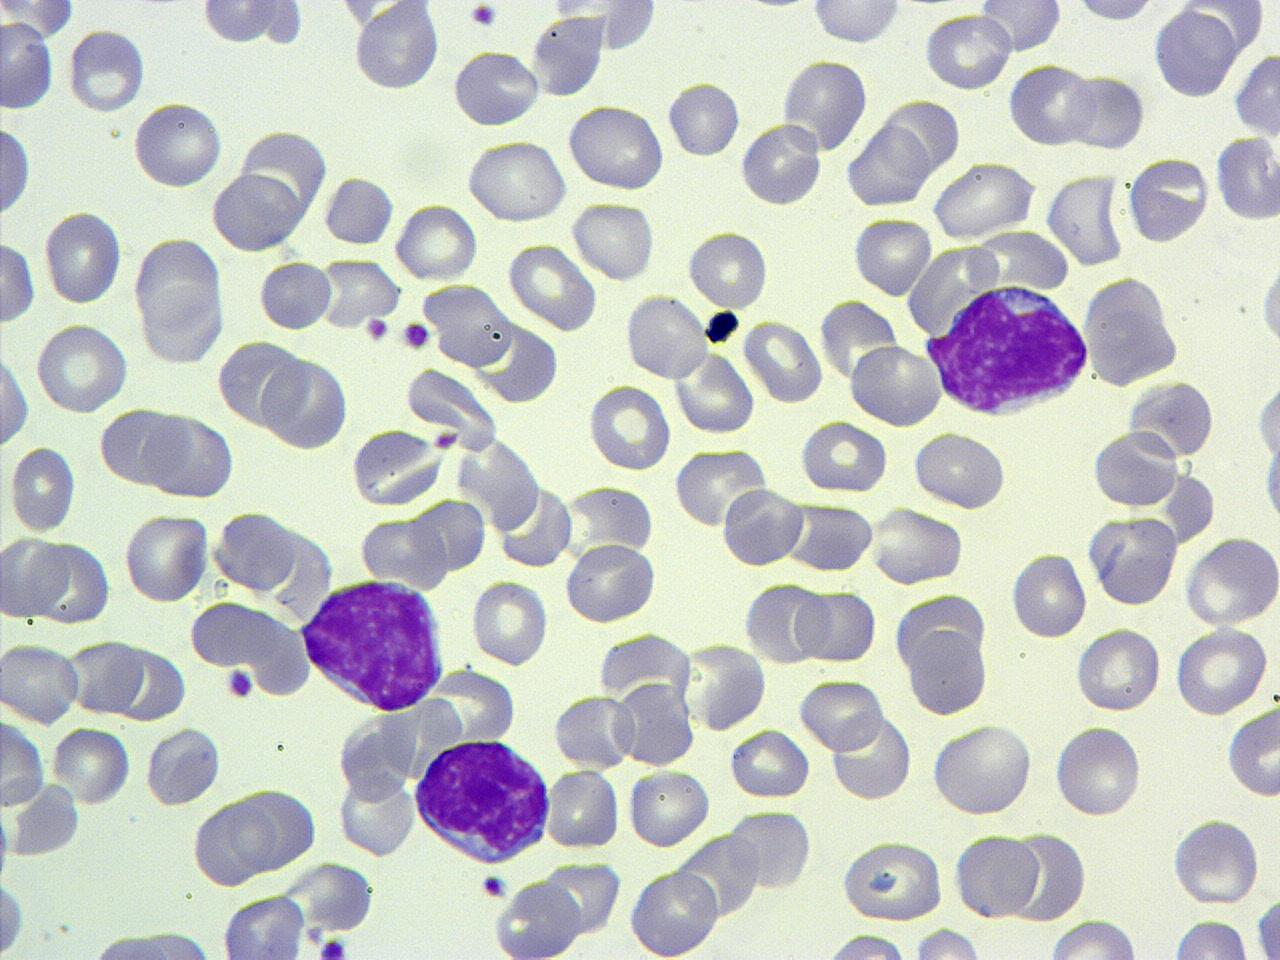Platelets: (0, 878, 29, 960), (1253, 892, 1280, 960), (704, 308, 740, 348), (402, 319, 434, 351), (225, 666, 255, 700), (468, 3, 500, 30), (481, 872, 510, 900), (363, 316, 390, 342), (319, 937, 349, 960)
RBC: (130, 233, 228, 362), (1079, 274, 1185, 388), (928, 722, 1036, 820), (840, 836, 948, 924), (464, 136, 572, 224), (565, 101, 667, 193), (33, 320, 132, 414), (1182, 534, 1280, 628), (1173, 625, 1271, 718), (1168, 814, 1266, 906), (780, 55, 869, 155), (1086, 512, 1178, 608), (130, 99, 226, 191), (1052, 724, 1144, 820), (930, 159, 1039, 240), (626, 866, 721, 958), (351, 1, 442, 94), (950, 829, 1043, 920), (260, 355, 349, 450), (848, 341, 944, 429), (216, 335, 306, 428), (910, 428, 1010, 511), (146, 410, 238, 500), (506, 240, 596, 332), (404, 364, 501, 449), (682, 638, 768, 733), (42, 208, 123, 308), (124, 510, 210, 604), (1153, 5, 1237, 100), (1008, 61, 1098, 149), (585, 382, 673, 472), (904, 626, 990, 718), (868, 506, 964, 588), (562, 542, 658, 624), (336, 708, 416, 806), (1009, 828, 1089, 926), (1075, 625, 1163, 714), (672, 444, 763, 530), (419, 284, 512, 368), (210, 170, 304, 253), (1127, 376, 1215, 464), (230, 783, 318, 871), (624, 292, 710, 381), (30, 535, 112, 628), (491, 878, 585, 959), (1008, 547, 1088, 642), (212, 506, 298, 594), (736, 121, 822, 208), (744, 578, 828, 667), (1126, 155, 1210, 244), (923, 10, 1013, 93), (450, 47, 542, 128), (348, 429, 442, 508), (846, 121, 930, 209), (612, 682, 696, 770), (672, 347, 756, 435), (742, 316, 826, 404), (570, 199, 658, 283), (624, 765, 712, 849), (1089, 427, 1179, 509), (469, 576, 550, 667), (719, 484, 805, 568), (65, 26, 147, 114), (830, 712, 913, 798), (0, 639, 80, 728), (358, 512, 448, 591), (98, 404, 183, 487), (787, 498, 877, 576), (528, 10, 606, 100), (850, 213, 932, 298), (394, 200, 480, 281), (797, 418, 888, 494), (337, 774, 419, 858), (192, 799, 269, 888), (51, 724, 132, 808), (798, 675, 886, 752), (550, 692, 636, 770), (63, 636, 146, 716), (544, 766, 621, 852), (686, 229, 769, 308), (144, 724, 222, 808), (728, 726, 812, 802), (8, 442, 77, 534), (1069, 71, 1147, 152), (796, 586, 877, 664), (666, 77, 741, 160), (0, 534, 68, 622), (320, 256, 403, 328), (218, 892, 308, 958), (1215, 133, 1279, 223), (256, 258, 334, 331), (248, 615, 314, 699), (189, 598, 264, 670), (324, 173, 397, 246), (1224, 704, 1280, 798), (0, 19, 56, 112), (976, 0, 1063, 54), (808, 0, 902, 46), (1232, 51, 1280, 141), (1044, 916, 1144, 959), (0, 720, 46, 810), (1170, 916, 1254, 960), (0, 340, 31, 453), (200, 1, 277, 46), (0, 118, 32, 223), (0, 234, 36, 326), (816, 930, 920, 960), (0, 0, 77, 39), (911, 924, 987, 960), (255, 1, 307, 47), (1253, 377, 1279, 466), (1069, 0, 1159, 25), (0, 876, 26, 959)
WBC: (0, 0, 583, 330), (918, 279, 1094, 424), (300, 575, 454, 711), (408, 732, 556, 866), (132, 231, 225, 364), (896, 588, 992, 713), (1081, 272, 1183, 388), (30, 322, 134, 418), (1151, 5, 1239, 99), (1009, 61, 1099, 152), (1087, 520, 1179, 608), (490, 876, 584, 960), (216, 169, 306, 253), (143, 722, 221, 809), (218, 894, 313, 960), (62, 926, 232, 960)
